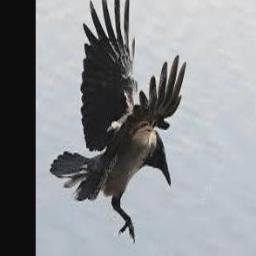Crow: (49, 0, 185, 244)
